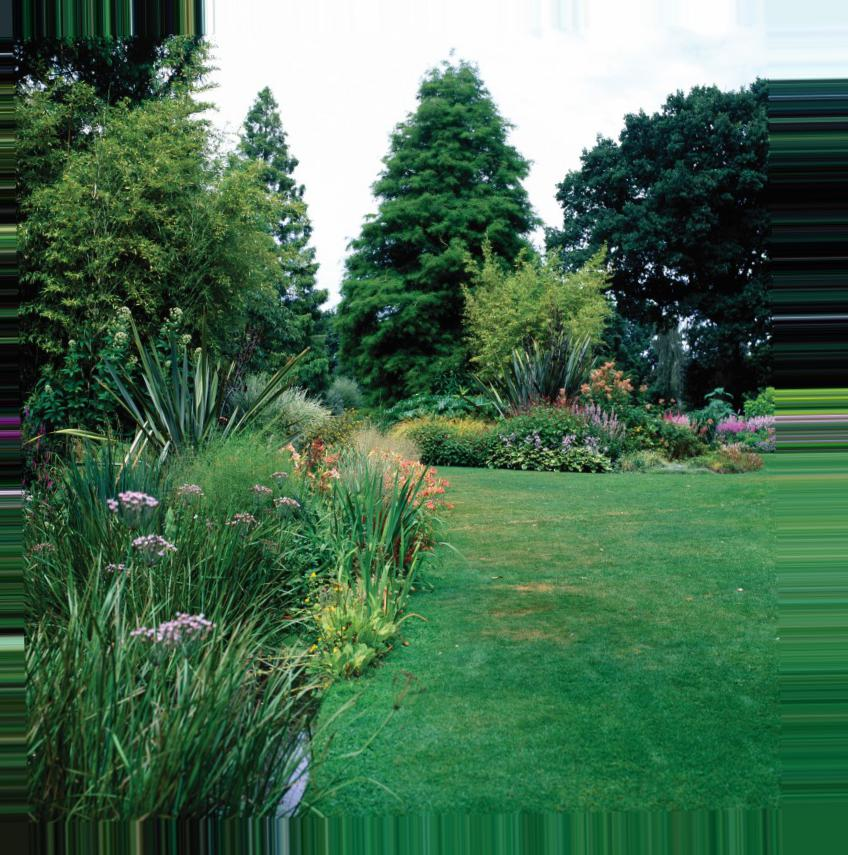patch: (508, 638, 618, 690), (501, 555, 590, 612), (473, 479, 553, 542)
